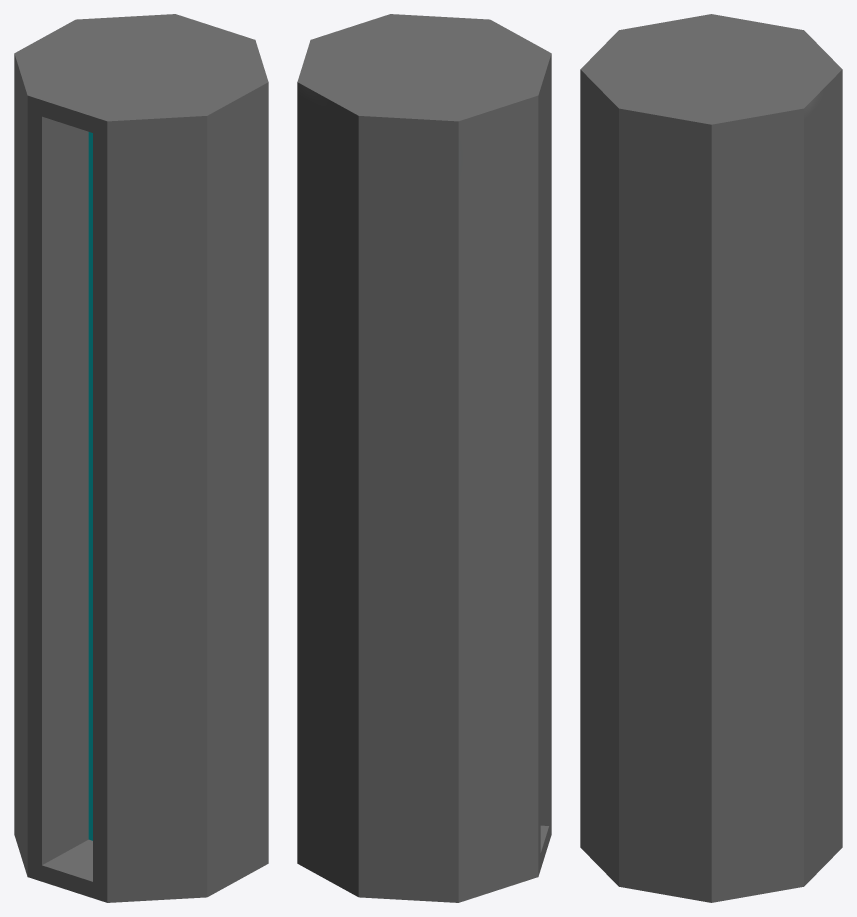
The picture shows the model from 3 angles, left to right: view 1: azimuth 30°, elevation 25°; view 2: azimuth 150°, elevation 25°; view 3: azimuth 270°, elevation 25°; orthographic projection.
Parts seen in each view (by area): view 1: SM_B_Part10; view 2: SM_B_Part10; view 3: SM_B_Part10.
Boxes of the visible parts, <box> form: SM_B_Part10: <box>14,14,268,902</box>; SM_B_Part10: <box>297,14,551,902</box>; SM_B_Part10: <box>580,14,842,902</box>.
Size of the model in its own units: 59.04 by 59.04 by 193.
Materials: 1 (1 with a texture image).
